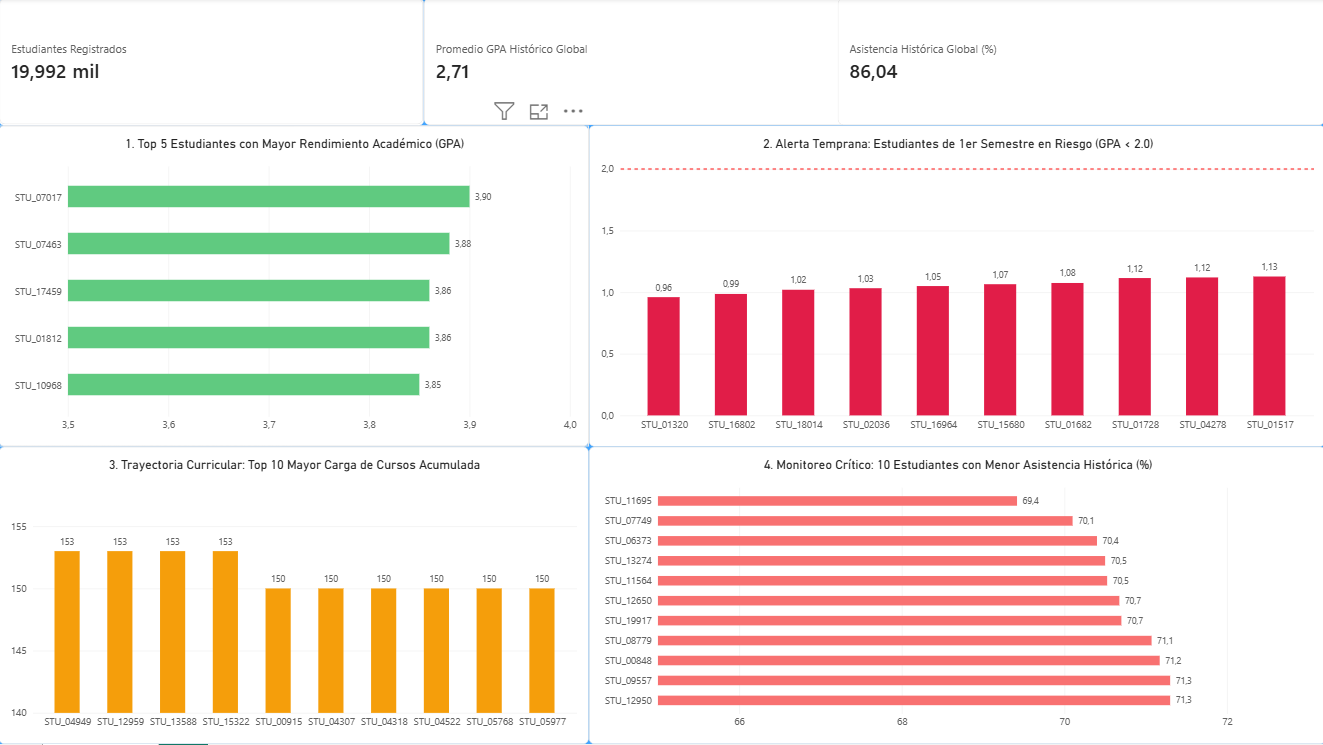

Layout of this report page (visuals, bound fields, positions):
{"tool":"powerbi","page":{"name":"Dasboard","canvas":[1920,1080],"ordinal":0},"visuals":[{"type":"cardVisual","title":"Total Estudiantes Registrados","fields":{"Data":["Count(part-00000-fb01bf00-c1a8-404d-b78d-0f5129c166c6-c000 snappy.Student_ID)"]},"box":[0,0,615.1,184.9],"z":0},{"type":"cardVisual","fields":{"Data":["Avg(part-00000-fb01bf00-c1a8-404d-b78d-0f5129c166c6-c000 snappy.Promedio_GPA_Historico)"]},"box":[615.1,0,615.1,184.9],"z":1000},{"type":"cardVisual","fields":{"Data":["Avg(part-00000-fb01bf00-c1a8-404d-b78d-0f5129c166c6-c000 snappy.Promedio_Asistencia)"]},"box":[1215.1,0,705.4,184.9],"z":2000},{"type":"clusteredBarChart","title":"1. Top 5 Estudiantes con Mayor Rendimiento Académico (GPA)","fields":{"Category":["part-00000-fb01bf00-c1a8-404d-b78d-0f5129c166c6-c000 snappy.Student_ID"],"Y":["Sum(part-00000-fb01bf00-c1a8-404d-b78d-0f5129c166c6-c000 snappy.Promedio_GPA_Historico)"]},"box":[0,184.9,853.8,464.5],"z":3000},{"type":"clusteredBarChart","title":"4. Monitoreo Crítico: 10 Estudiantes con Menor Asistencia Histórica (%)","fields":{"Category":["part-00000-fb01bf00-c1a8-404d-b78d-0f5129c166c6-c000 snappy.Student_ID"],"Y":["Sum(part-00000-fb01bf00-c1a8-404d-b78d-0f5129c166c6-c000 snappy.Promedio_Asistencia)"]},"box":[853.8,649.5,1066.7,430.1],"z":4000},{"type":"clusteredColumnChart","title":"2. Alerta Temprana: Estudiantes de 1er Semestre en Riesgo (GPA < 2.0)","fields":{"Category":["part-00000-fb01bf00-c1a8-404d-b78d-0f5129c166c6-c000 snappy.Student_ID"],"Y":["Sum(part-00000-fb01bf00-c1a8-404d-b78d-0f5129c166c6-c000 snappy.Promedio_GPA_Historico)"]},"box":[853.8,184.9,1066.7,464.5],"z":5000},{"type":"clusteredColumnChart","title":"3. Trayectoria Curricular: Top 10 Mayor Carga de Cursos Acumulada","fields":{"Category":["part-00000-fb01bf00-c1a8-404d-b78d-0f5129c166c6-c000 snappy.Student_ID"],"Y":["Sum(part-00000-fb01bf00-c1a8-404d-b78d-0f5129c166c6-c000 snappy.Total_Cursos_Tomados)"]},"box":[0,649.7,853.8,430.1],"z":6000},{"type":"textbox","box":[100,100,300,300],"z":7000}]}

Visuals, with their boxes in screenshot pixels (x1, y1, x2, y2), scaled from the page's 1920x1080 canvas onto the 1323x745 screenshot:
"Total Estudiantes Registrados" cardVisual: bbox=[0, 0, 424, 128]
cardVisual - Avg(part-00000-fb01bf00-c1a8-404d-b78d-0f5129c166c6-c000 snappy.Promedio_GPA_Historico): bbox=[424, 0, 848, 128]
cardVisual - Avg(part-00000-fb01bf00-c1a8-404d-b78d-0f5129c166c6-c000 snappy.Promedio_Asistencia): bbox=[837, 0, 1322, 128]
"1. Top 5 Estudiantes con Mayor Rendimiento Académico (GPA)" clusteredBarChart: bbox=[0, 128, 588, 448]
"4. Monitoreo Crítico: 10 Estudiantes con Menor Asistencia Histórica (%)" clusteredBarChart: bbox=[588, 448, 1322, 744]
"2. Alerta Temprana: Estudiantes de 1er Semestre en Riesgo (GPA < 2.0)" clusteredColumnChart: bbox=[588, 128, 1322, 448]
"3. Trayectoria Curricular: Top 10 Mayor Carga de Cursos Acumulada" clusteredColumnChart: bbox=[0, 448, 588, 744]
textbox: bbox=[69, 69, 276, 276]
